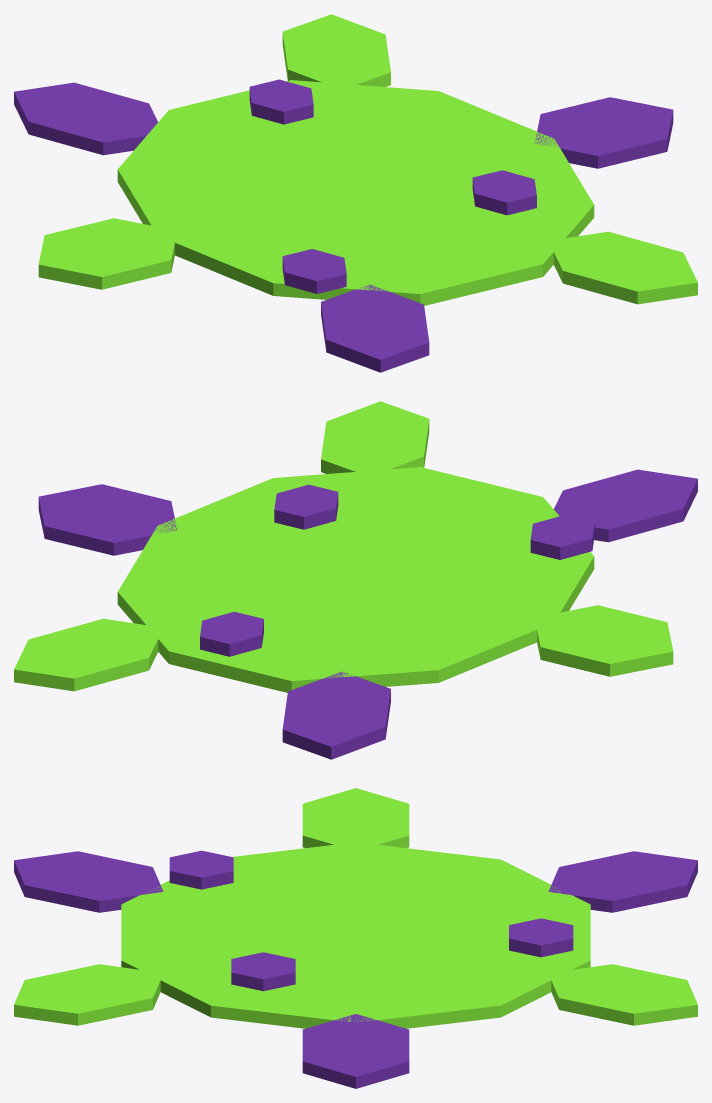
The model's file is env_r11_toxic_splat.glb.
3 views of the same model, one above another, from view 1: azimuth 30°, elevation 25°; view 2: azimuth 150°, elevation 25°; view 3: azimuth 270°, elevation 25° (orthographic). The views are drawn at different scales.
Parts seen in each view (by area): view 1: env_r11_toxic_splat; view 2: env_r11_toxic_splat; view 3: env_r11_toxic_splat.
Boxes of the visible parts, box(x1,y1,x2,y2) form: env_r11_toxic_splat: box(14, 14, 697, 372); env_r11_toxic_splat: box(14, 401, 697, 759); env_r11_toxic_splat: box(14, 788, 697, 1088).
Bounding box in the file's own units: 2.6 × 0.1 × 2.6.
1 material, 1 textured.
